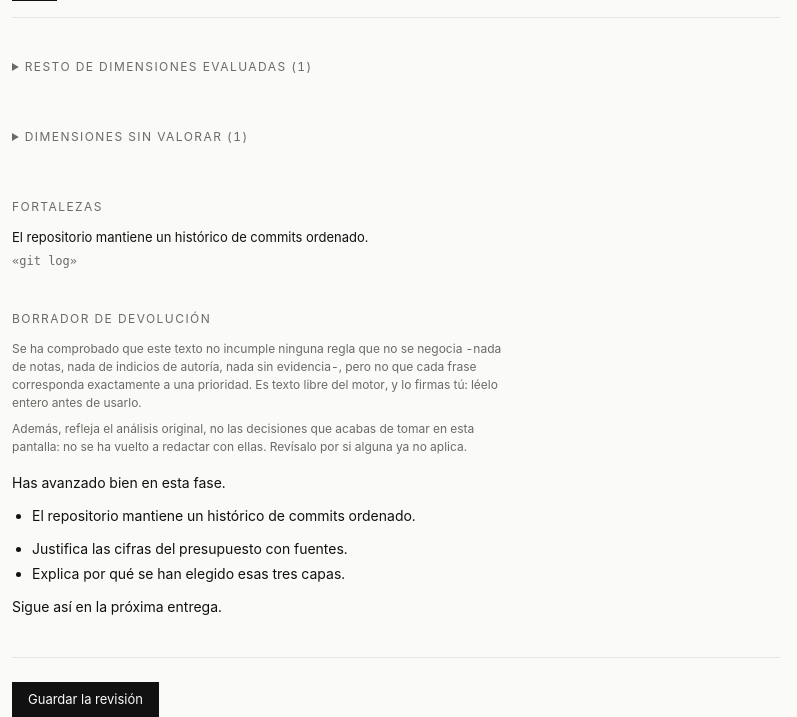
Test: Revision › un error del servidor al guardar se enseña con su mensaje
(page scrolled)
What coordinates should you click on to do the following:
click the button "Guardar la revisión"
I would click on:
 (85, 699)
Its box is [12,682,159,716].
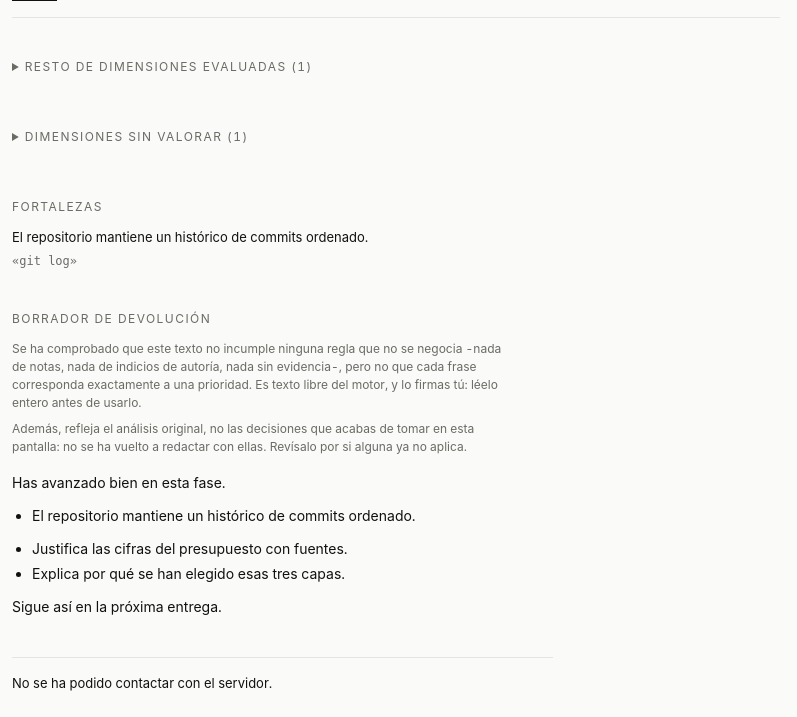
Check: the text "No se ha podido contactar con el servidor." is shown, box [12,656,553,693]
